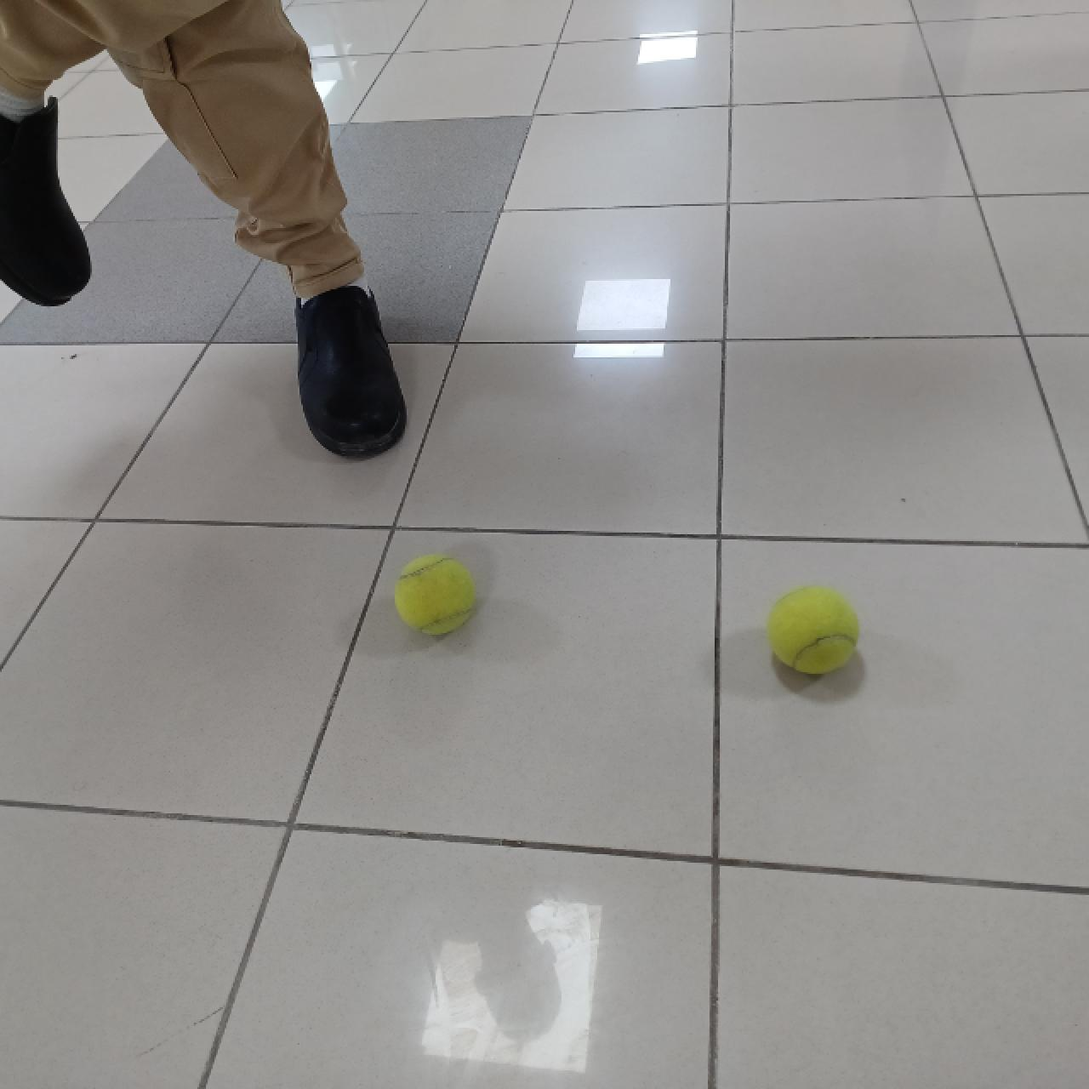tennis-ball: (767, 583, 862, 678), (392, 551, 480, 639)
